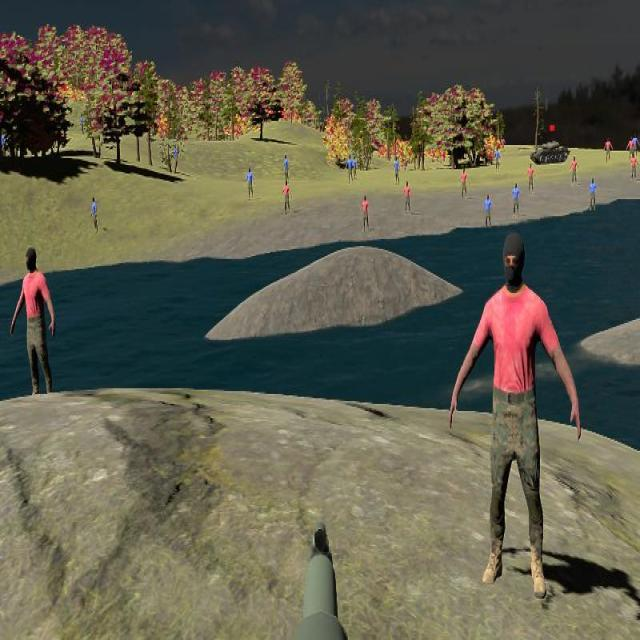Human: (449, 227, 580, 596), (10, 246, 55, 415)
Tank: (519, 140, 569, 165)
